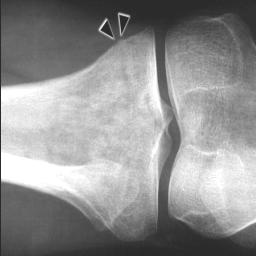cancer: (42, 40, 162, 244)
